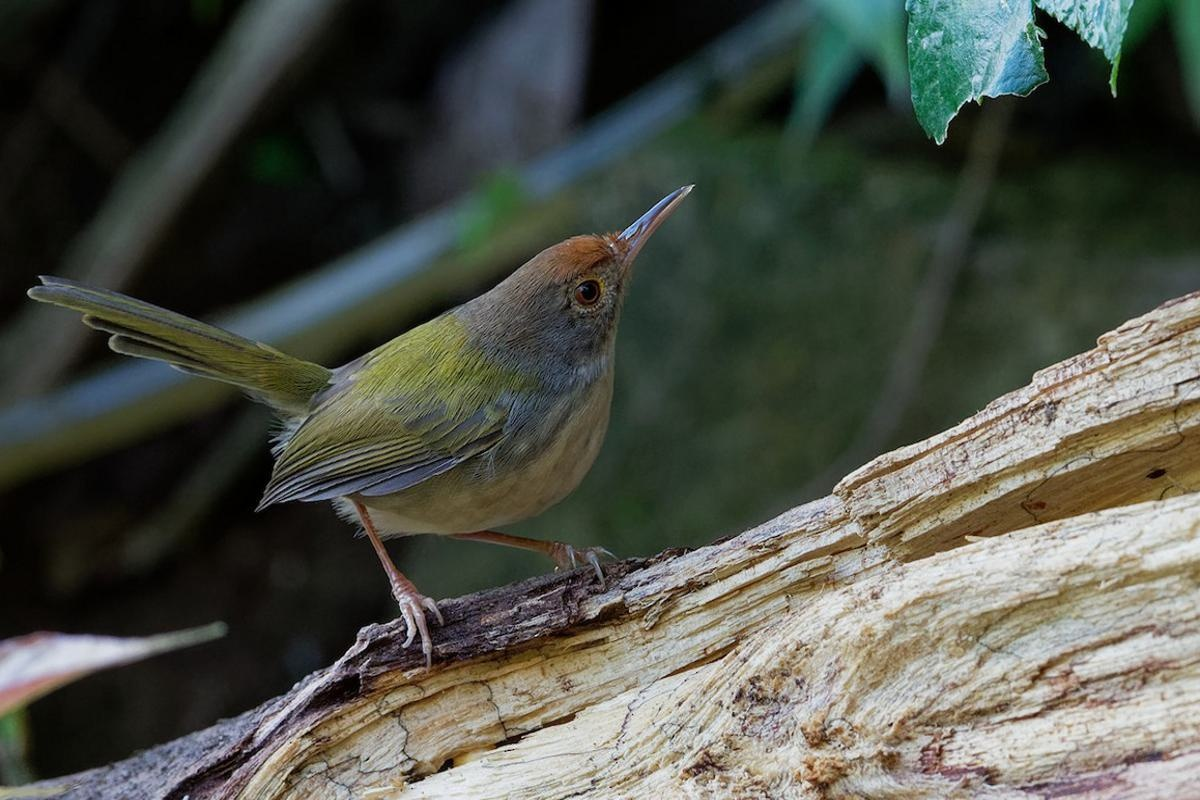tailorbird: (46, 156, 723, 655)
